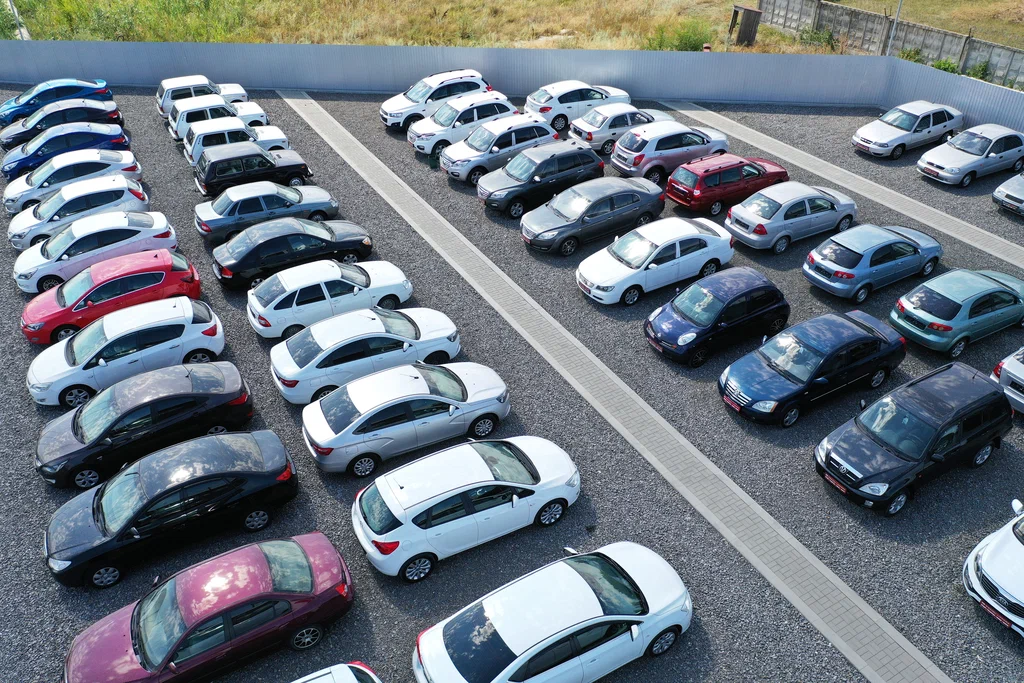Car: (61, 532, 354, 683), (43, 430, 299, 589), (412, 541, 694, 683), (351, 435, 581, 583), (814, 362, 1014, 516), (34, 360, 255, 489), (301, 360, 510, 478), (25, 295, 226, 408), (717, 310, 908, 428), (269, 305, 462, 405), (20, 248, 202, 345), (643, 266, 790, 367), (576, 216, 734, 306), (12, 211, 178, 295), (247, 259, 414, 341), (212, 216, 375, 290), (889, 270, 1024, 359), (519, 176, 665, 256), (802, 224, 943, 304), (7, 174, 150, 251), (477, 137, 605, 219), (724, 180, 857, 255), (192, 181, 339, 247), (3, 149, 143, 215), (439, 113, 560, 185), (961, 499, 1024, 637), (665, 154, 789, 217), (0, 122, 130, 181), (609, 121, 729, 184), (406, 91, 518, 157), (917, 123, 1024, 188), (380, 69, 492, 130), (851, 100, 963, 160), (193, 141, 313, 197), (0, 98, 125, 151), (522, 80, 631, 132), (568, 103, 674, 155), (0, 78, 113, 126), (183, 117, 291, 166), (167, 94, 270, 142), (155, 75, 249, 120), (991, 347, 1024, 414), (291, 661, 383, 683), (991, 170, 1024, 217)
